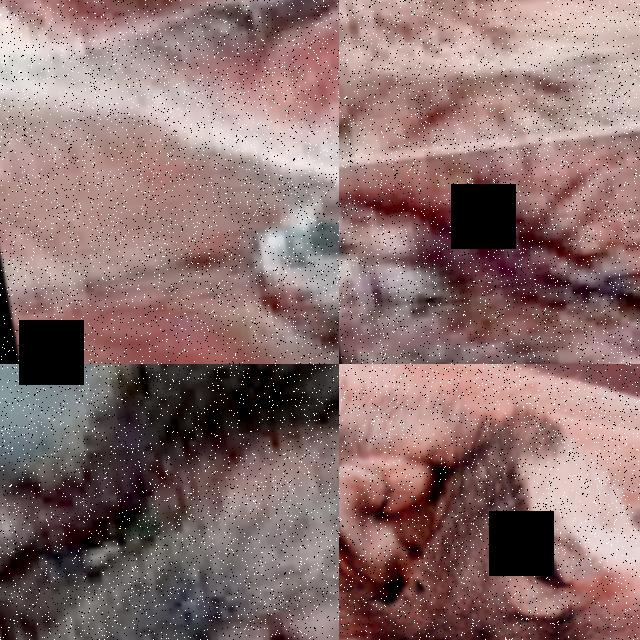dog: (0, 0, 339, 364)
wolf: (0, 364, 339, 640), (339, 57, 640, 364), (339, 364, 640, 640), (339, 0, 640, 206)
